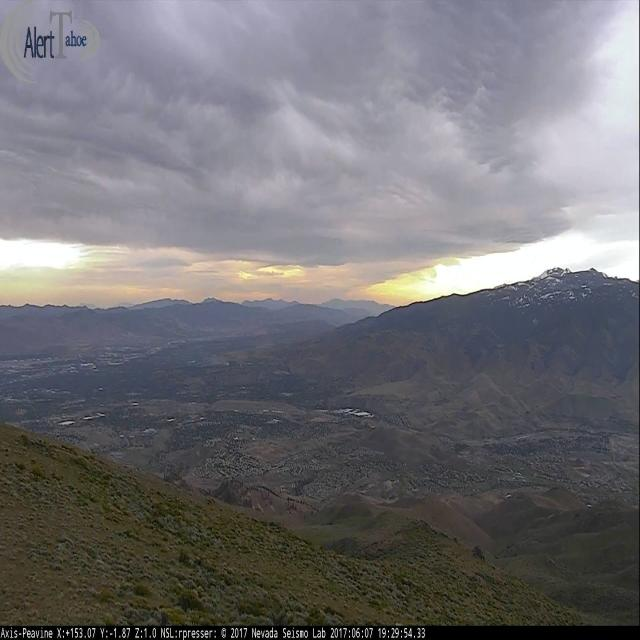smoke: (214, 357, 230, 366)
